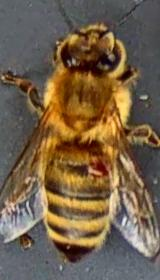varroa_mite: (82, 156, 115, 182)
